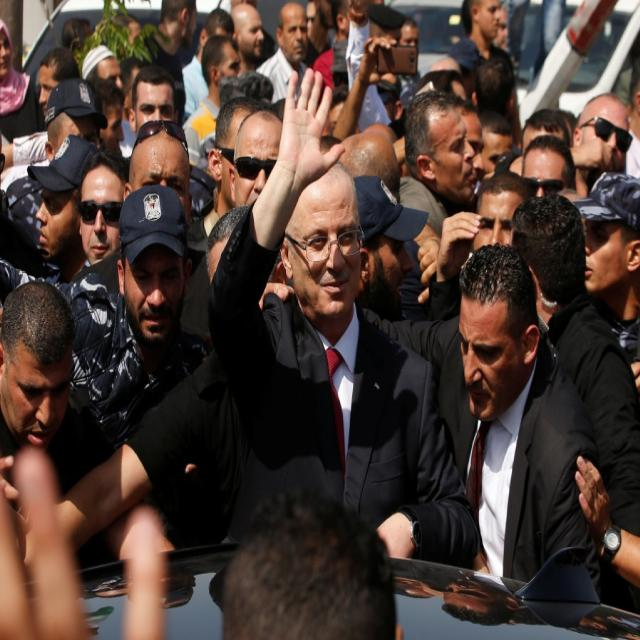body: (203, 65, 485, 566), (0, 0, 640, 201), (257, 242, 605, 606), (0, 445, 640, 638), (0, 179, 215, 466), (507, 193, 640, 616), (0, 277, 128, 586), (572, 166, 639, 590), (69, 116, 195, 295), (0, 132, 98, 292), (121, 65, 211, 222), (395, 87, 480, 240), (352, 173, 432, 324), (0, 44, 83, 169), (181, 34, 244, 169), (70, 154, 128, 282), (464, 167, 534, 259), (225, 114, 287, 213), (255, 1, 309, 104), (446, 0, 513, 78), (0, 15, 40, 145), (202, 202, 259, 281), (360, 290, 467, 325)
